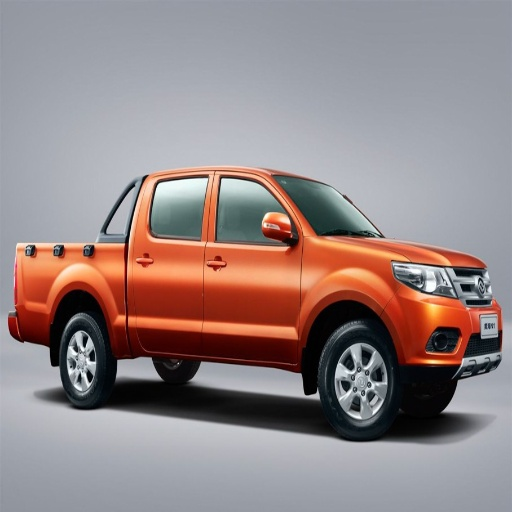back_left_light: (129, 172, 214, 347)
back_right_light: (396, 282, 504, 376)
front_bumper: (281, 176, 380, 236)
front_left_light: (203, 171, 300, 360)
front_right_door: (394, 262, 489, 303)
front_right_light: (409, 247, 487, 268)
tailgate: (12, 243, 121, 338)
trunk: (317, 321, 401, 438), (57, 313, 113, 408), (155, 358, 195, 383)
